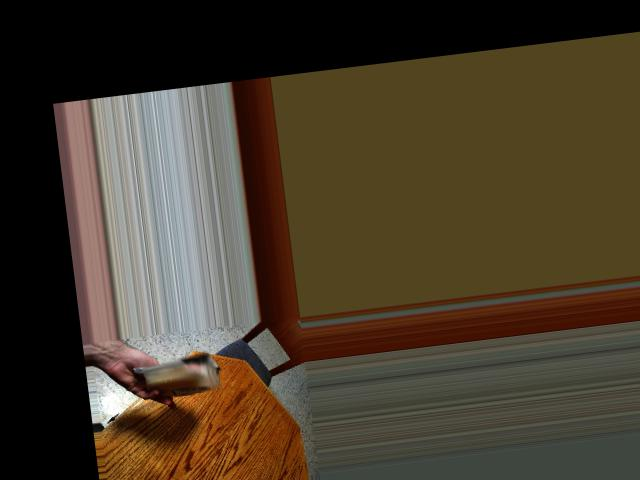cheese: (139, 345, 220, 409)
